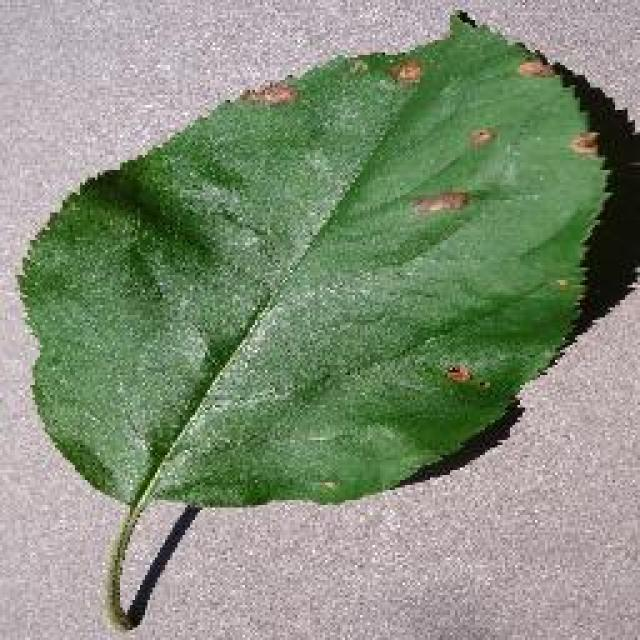Black_rot: (15, 8, 617, 628)
